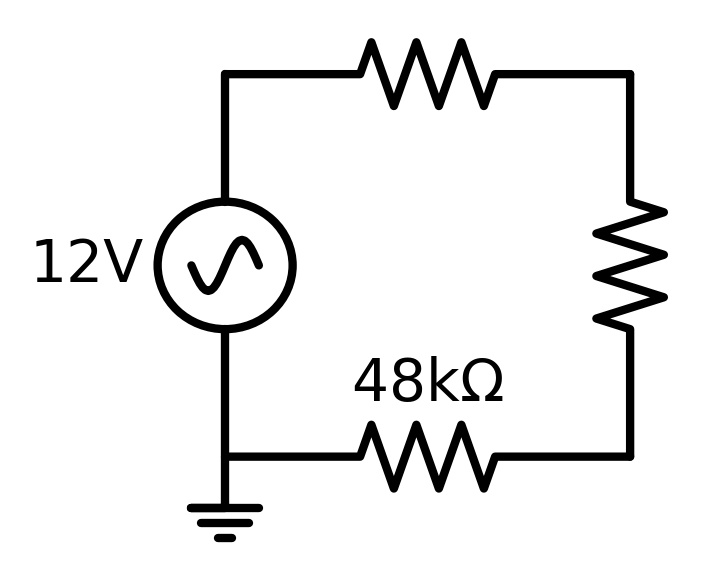ground: (176, 484, 270, 556)
resistor: (569, 174, 683, 349), (355, 409, 509, 511), (345, 27, 510, 120)
sourceac: (148, 187, 301, 339)
